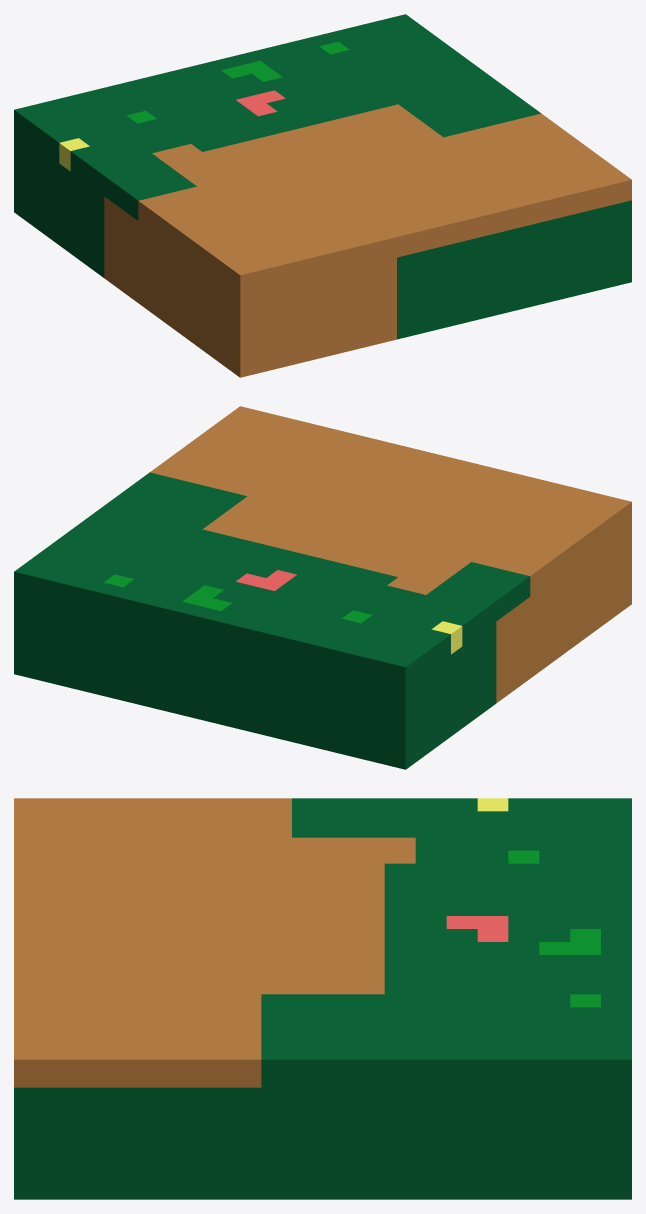
File: Tile5.obj
The picture shows the model from 3 angles, top to bottom: view 1: azimuth 30°, elevation 25°; view 2: azimuth 150°, elevation 25°; view 3: azimuth 270°, elevation 25°; orthographic projection. The views are drawn at different scales.
Bounding box in the file's own units: 2 × 0.5 × 2.
Materials: 1 (1 with a texture image).
